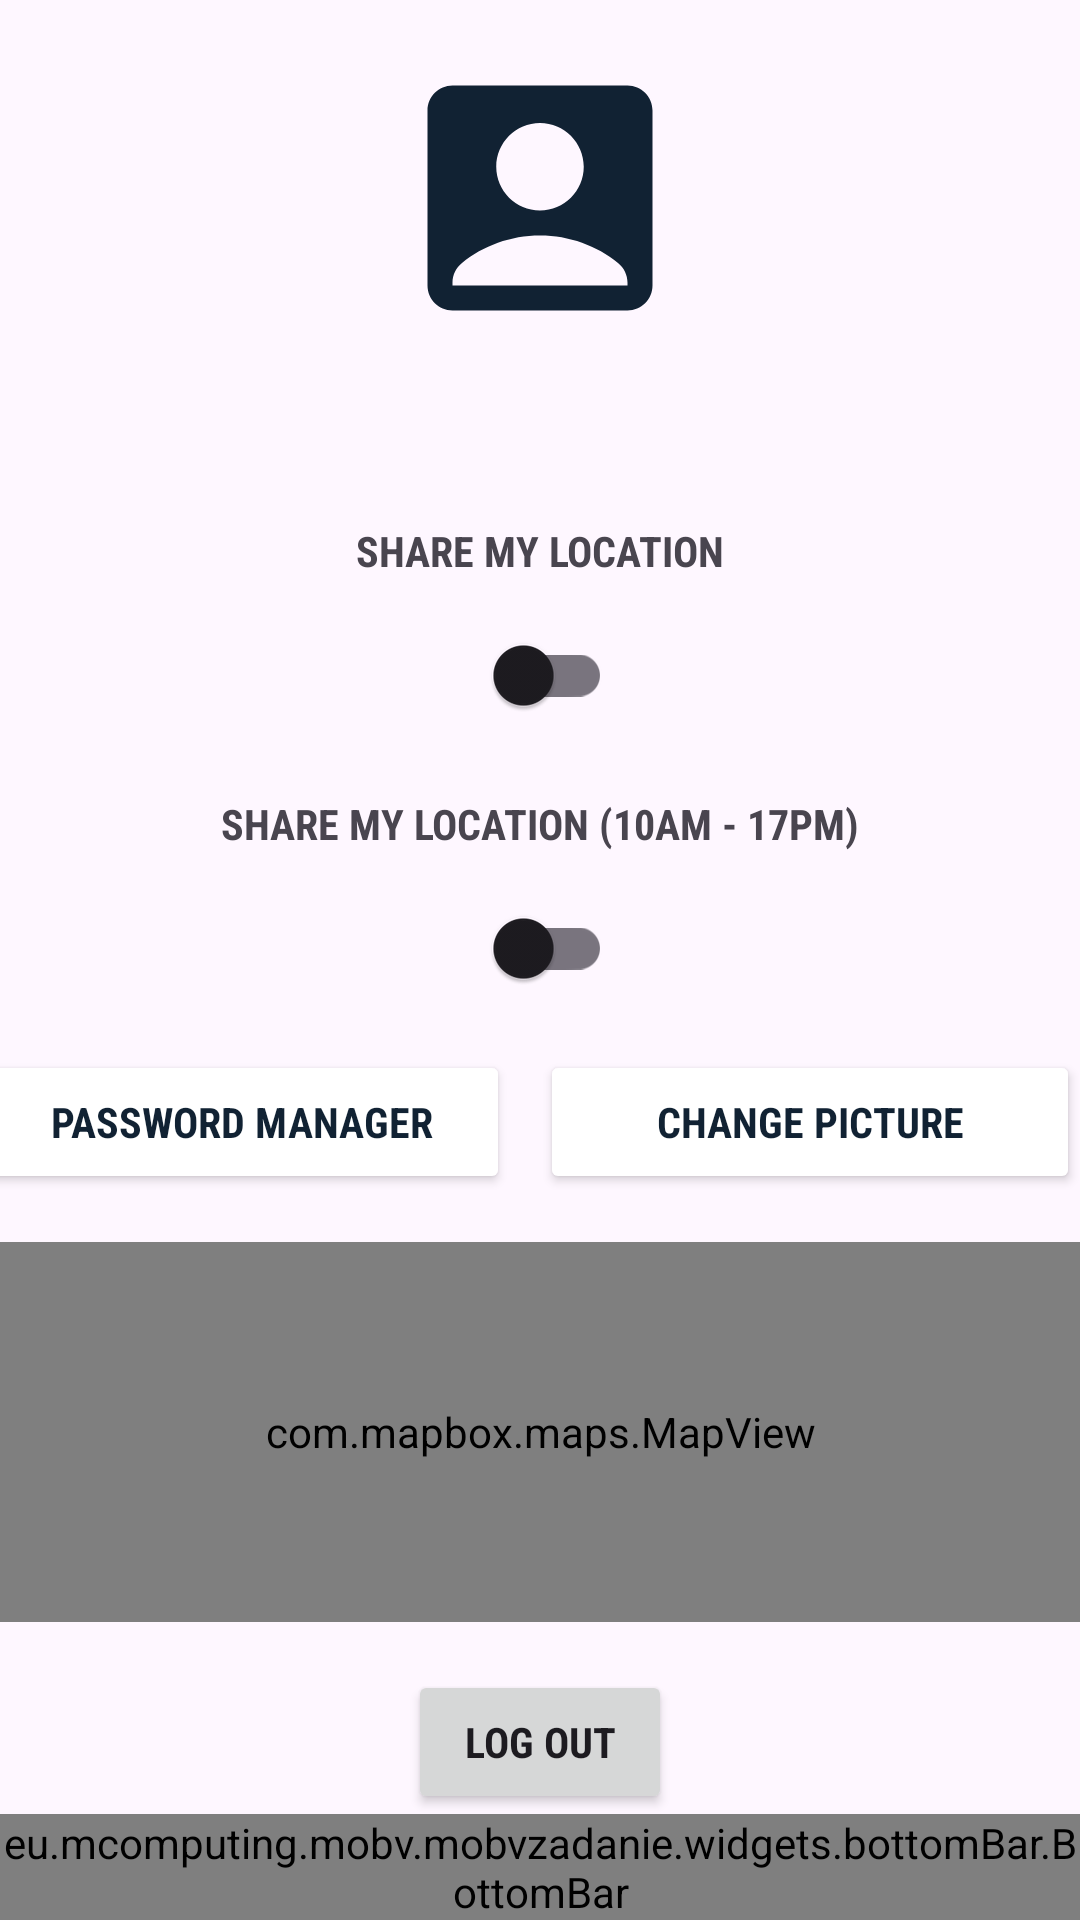

Where icons sit on this 1080 x 1920 app screen, as bbox=(x1, y1, x2, y2):
User's picture: bbox=(427, 85, 653, 311)
